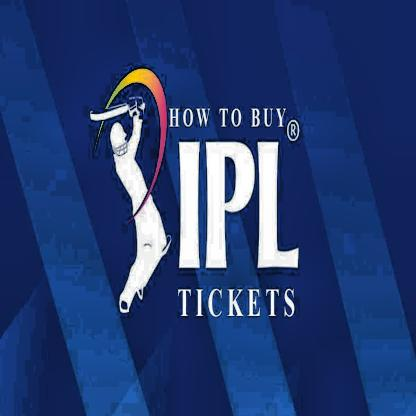IPL: (90, 67, 172, 316), (180, 139, 298, 273)
